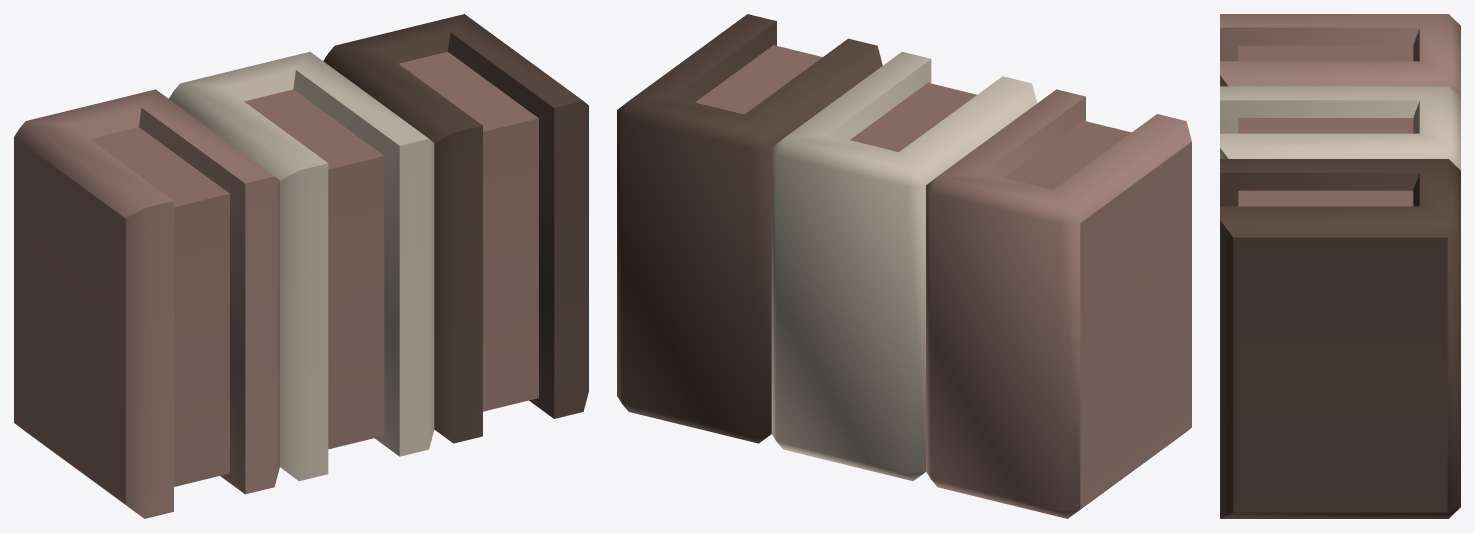
File: book_set.obj
The picture shows the model from 3 angles, left to right: view 1: azimuth 30°, elevation 25°; view 2: azimuth 150°, elevation 25°; view 3: azimuth 270°, elevation 25°; orthographic projection. The views are drawn at different scales.
Parts seen in each view (by area): view 1: book_set_Cube.007; view 2: book_set_Cube.007; view 3: book_set_Cube.007.
Part boxes in pixels (x1,y1,x2,y2): book_set_Cube.007: (14,14,588,518); book_set_Cube.007: (617,14,1191,518); book_set_Cube.007: (1220,14,1460,518).
Size of the model in its own units: 0.78 by 0.5 by 0.365.
1 material, 1 textured.
